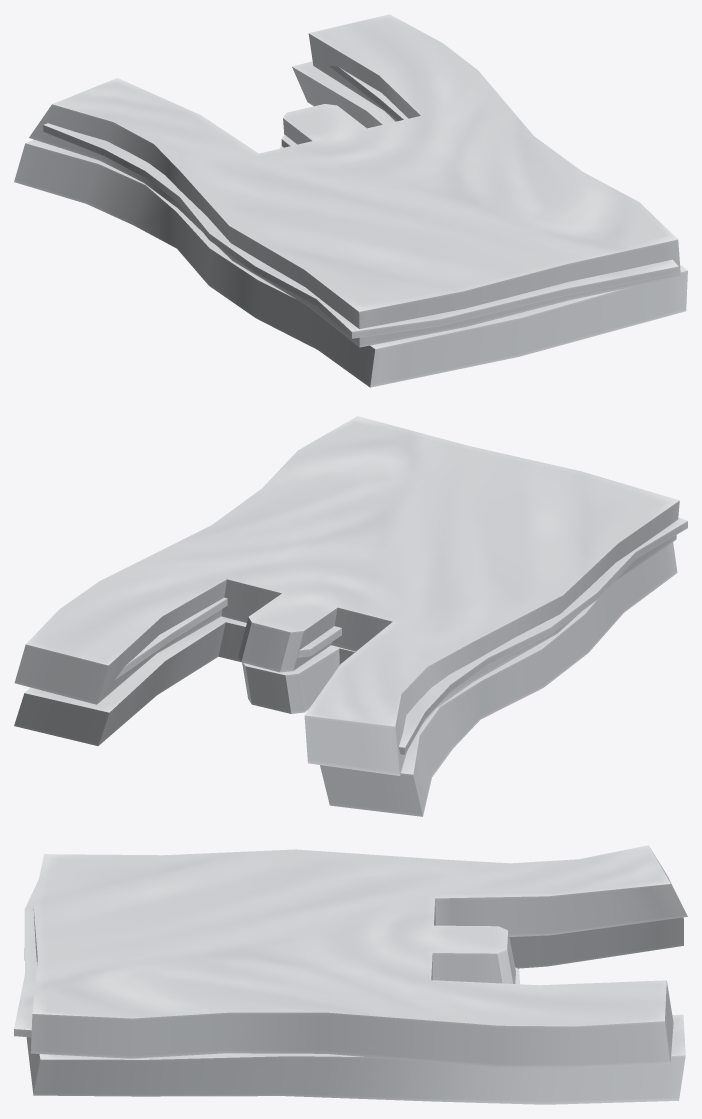
Rendered from jsf_PlasticBag.fbx.
The picture shows the model from 3 angles, top to bottom: view 1: azimuth 30°, elevation 25°; view 2: azimuth 150°, elevation 25°; view 3: azimuth 270°, elevation 25°; orthographic projection. The views are drawn at different scales.
Visible parts, largest first — view 1: jsf_PlasticBag; view 2: jsf_PlasticBag; view 3: jsf_PlasticBag.
Part boxes in pixels (bbox=[...]): jsf_PlasticBag: bbox=[14, 14, 687, 387]; jsf_PlasticBag: bbox=[14, 416, 687, 816]; jsf_PlasticBag: bbox=[14, 845, 687, 1104].
Size of the model in its own units: 29.76 by 5.36 by 42.27.
